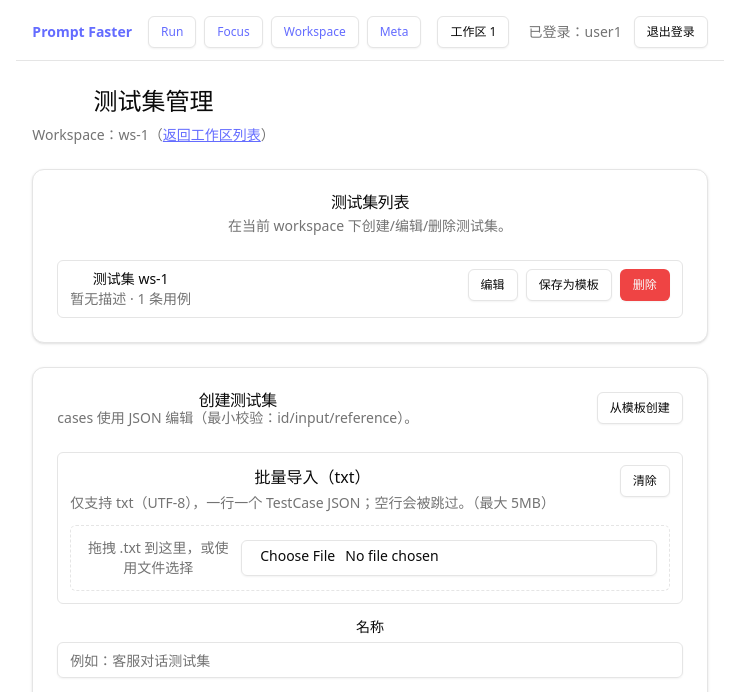
Scenario: App routes › 选择工作区后路由跳转（保持 section 规则：test-sets）
This screenshot has width=741, height=692.
expect the text "测试集 ws-1" is shown: met, box top-left (93, 269), bottom-right (169, 288)
Click the button with test id "workspace-selector-trigger".
click(473, 32)  # box top-left (437, 16), bottom-right (509, 48)
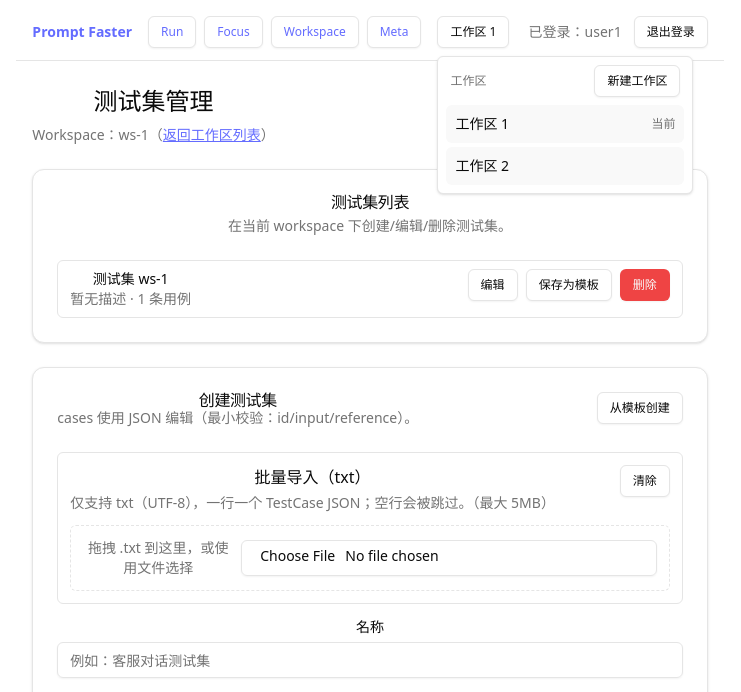
Click the button with test id "workspace-option-ws-2".
click(565, 166)  # box top-left (446, 147), bottom-right (684, 185)
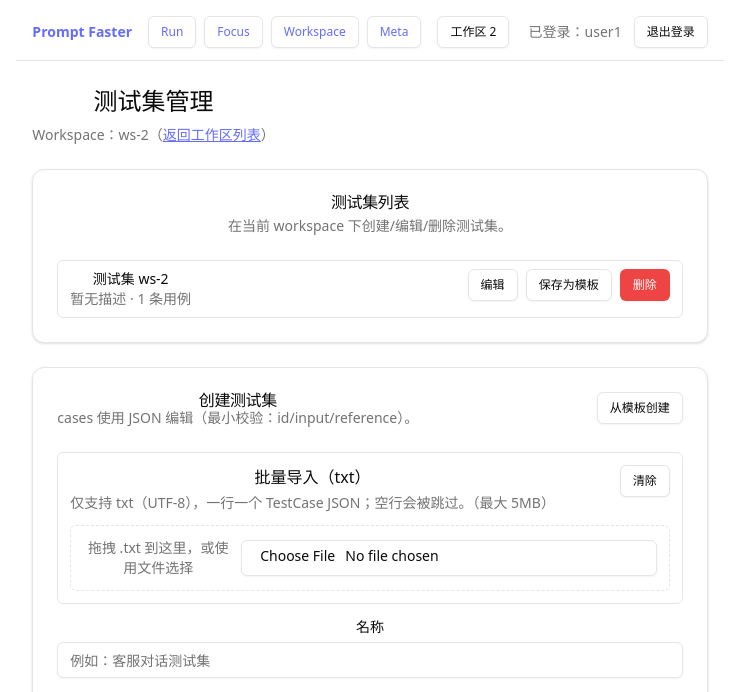
expect the text "测试集 ws-2" is shown: met, box top-left (93, 269), bottom-right (169, 288)
